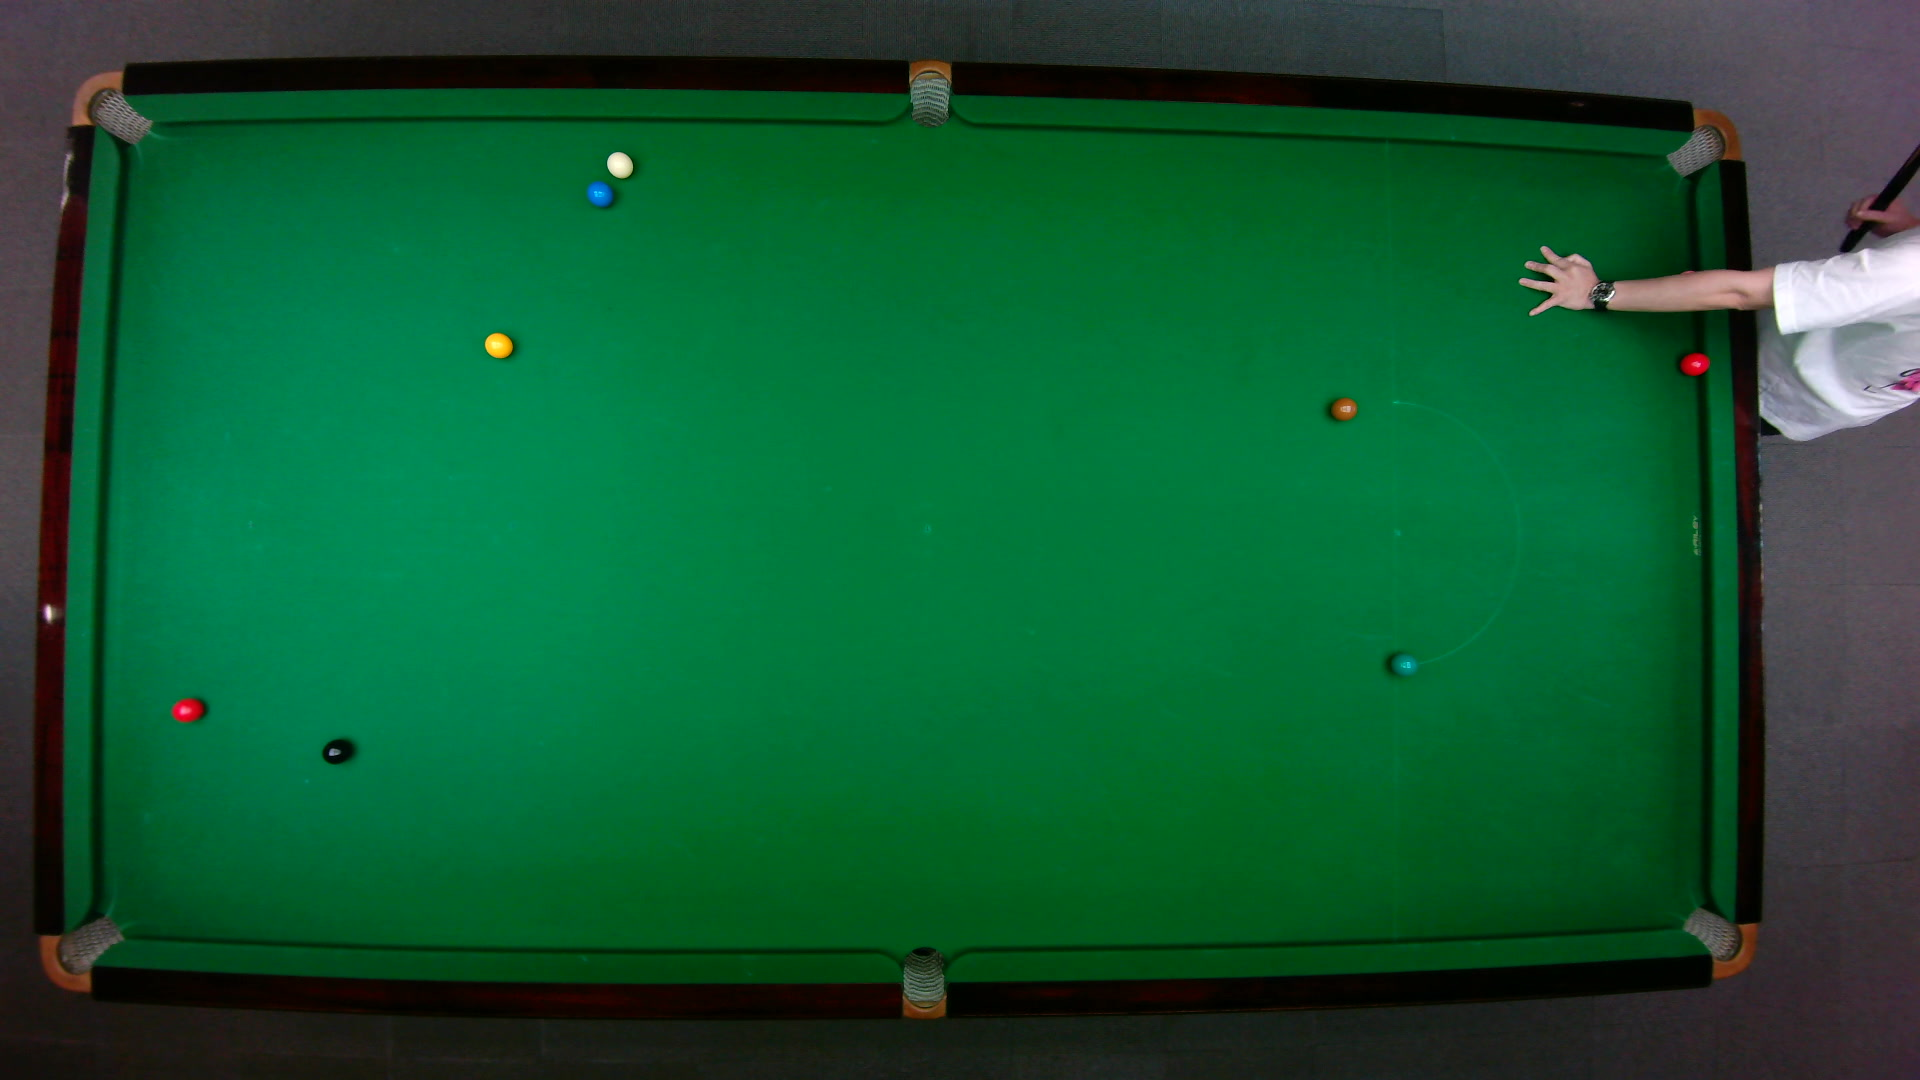bag: (37, 913, 125, 992), (69, 69, 152, 145), (1679, 905, 1756, 978), (1663, 107, 1741, 177), (901, 944, 944, 1021), (909, 57, 949, 128)
black: (320, 737, 352, 765)
blue: (584, 179, 613, 207)
brown: (1328, 396, 1360, 421)
green: (1389, 650, 1418, 676)
red: (169, 696, 204, 723), (1677, 349, 1710, 376)
white: (604, 149, 634, 179)
yellow: (483, 328, 514, 359)
zone: (1390, 398, 1519, 667)
